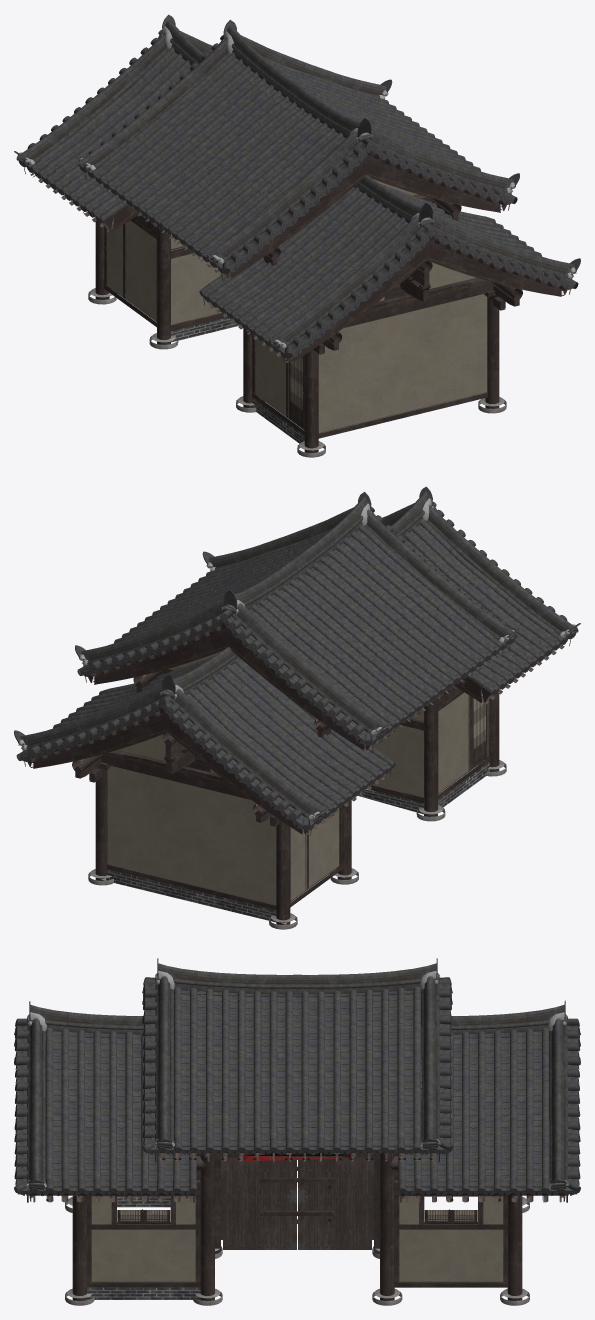
Rendered from daemun.glb.
The picture shows the model from 3 angles, top to bottom: view 1: azimuth 30°, elevation 25°; view 2: azimuth 150°, elevation 25°; view 3: azimuth 270°, elevation 25°; orthographic projection. The views are drawn at different scales.
Parts seen in each view (by area): view 1: Main_Gate_mesh, Main_Gate_mesh_Roof_Concrete_01_m1_0.004, Main_Gate_mesh_Roof_Concrete_01_m1_0.003, Main_Gate_mesh_Roof_Concrete_01_m1_0.005, Main_Gate_mesh_Roof_Concrete_01_m1_0.001, Main_Gate_mesh_Roof_Concrete_01_m1_0.006, Main_Gate_mesh_Roof_Concrete_01_m1_0.002; view 2: Main_Gate_mesh, Main_Gate_mesh_Roof_Concrete_01_m1_0.004, Main_Gate_mesh_Roof_Concrete_01_m1_0.003, Main_Gate_mesh_Roof_Concrete_01_m1_0.005, Main_Gate_mesh_Roof_Concrete_01_m1_0.001, Main_Gate_mesh_Roof_Concrete_01_m1_0.002, Main_Gate_mesh_Roof_Concrete_01_m1_0.006; view 3: Main_Gate_mesh, Main_Gate_mesh_Roof_Concrete_01_m1_0.002, Main_Gate_mesh_Roof_Concrete_01_m1_0.001, Main_Gate_mesh_Roof_Concrete_01_m1_0.003, Main_Gate_mesh_Roof_Concrete_01_m1_0.004, Main_Gate_mesh_Roof_Concrete_01_m1_0.005, Main_Gate_mesh_Roof_Concrete_01_m1_0.006.
Part boxes in pixels (x1=…): Main_Gate_mesh: x1=24, y1=49, x2=575, y2=457; Main_Gate_mesh_Roof_Concrete_01_m1_0.004: x1=37, y1=20, x2=580, y2=279; Main_Gate_mesh_Roof_Concrete_01_m1_0.003: x1=14, y1=14, x2=580, y2=358; Main_Gate_mesh_Roof_Concrete_01_m1_0.005: x1=100, y1=47, x2=471, y2=252; Main_Gate_mesh_Roof_Concrete_01_m1_0.001: x1=116, y1=52, x2=539, y2=256; Main_Gate_mesh_Roof_Concrete_01_m1_0.006: x1=124, y1=61, x2=478, y2=247; Main_Gate_mesh_Roof_Concrete_01_m1_0.002: x1=55, y1=58, x2=447, y2=238; Main_Gate_mesh: x1=19, y1=519, x2=570, y2=929; Main_Gate_mesh_Roof_Concrete_01_m1_0.004: x1=75, y1=492, x2=519, y2=809; Main_Gate_mesh_Roof_Concrete_01_m1_0.003: x1=14, y1=486, x2=580, y2=830; Main_Gate_mesh_Roof_Concrete_01_m1_0.005: x1=135, y1=524, x2=496, y2=738; Main_Gate_mesh_Roof_Concrete_01_m1_0.001: x1=123, y1=516, x2=482, y2=712; Main_Gate_mesh_Roof_Concrete_01_m1_0.002: x1=55, y1=528, x2=475, y2=798; Main_Gate_mesh_Roof_Concrete_01_m1_0.006: x1=116, y1=539, x2=494, y2=705; Main_Gate_mesh: x1=17, y1=983, x2=577, y2=1305; Main_Gate_mesh_Roof_Concrete_01_m1_0.002: x1=173, y1=986, x2=550, y2=1187; Main_Gate_mesh_Roof_Concrete_01_m1_0.001: x1=44, y1=988, x2=421, y2=1187; Main_Gate_mesh_Roof_Concrete_01_m1_0.003: x1=14, y1=971, x2=580, y2=1195; Main_Gate_mesh_Roof_Concrete_01_m1_0.004: x1=27, y1=958, x2=509, y2=1196; Main_Gate_mesh_Roof_Concrete_01_m1_0.005: x1=173, y1=987, x2=541, y2=1146; Main_Gate_mesh_Roof_Concrete_01_m1_0.006: x1=173, y1=988, x2=421, y2=1146.
Size of the model in its own units: 7.3 by 6.25 by 10.87.
11 materials, 11 textured.
